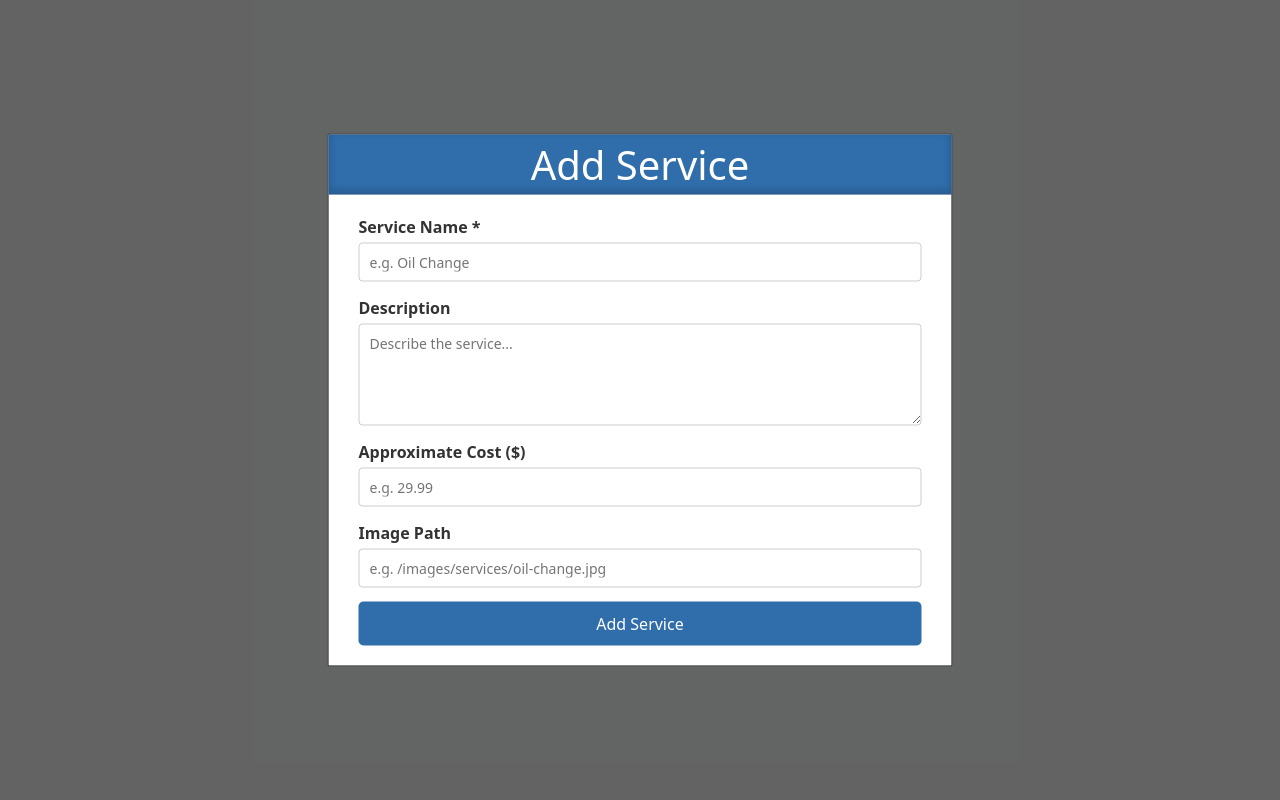
Test: ServicesManagementAdd › shows error for duplicate service name
Note: Enter existing service name
In the field labelled "Service Name *": (640, 262) x1=358 y1=242 x2=922 y2=282, type "Oil Change"
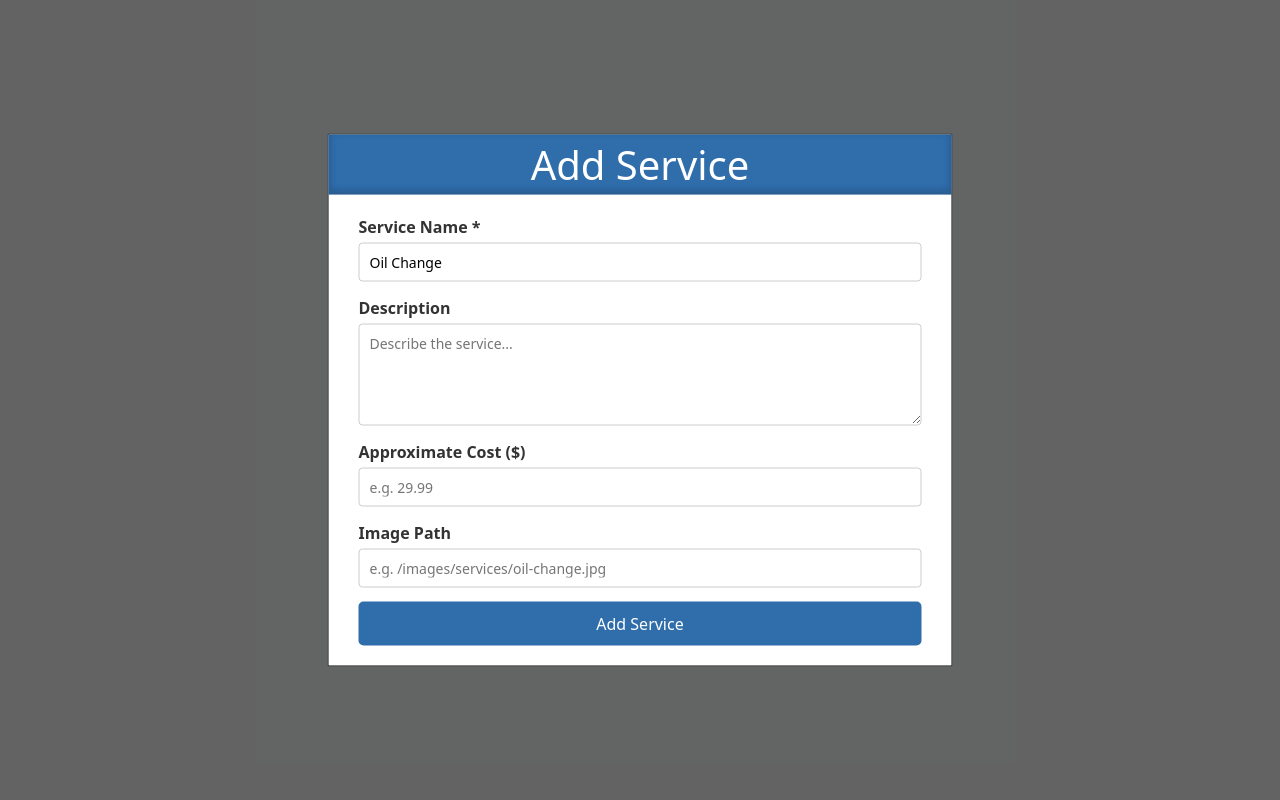
Click the button "Add Service": (640, 624) x1=358 y1=602 x2=922 y2=646
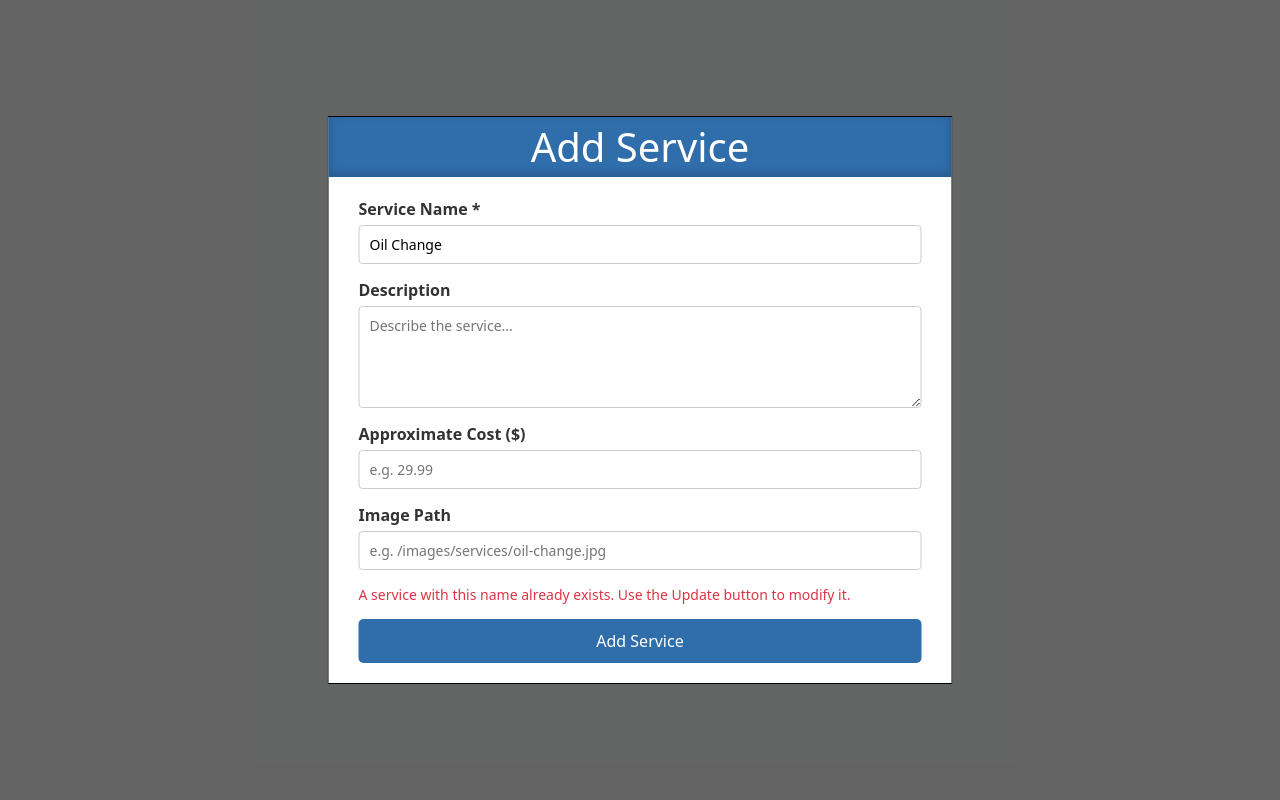
Result: the text "A service with this name already exists" is shown at x1=358 y1=585 x2=850 y2=604
